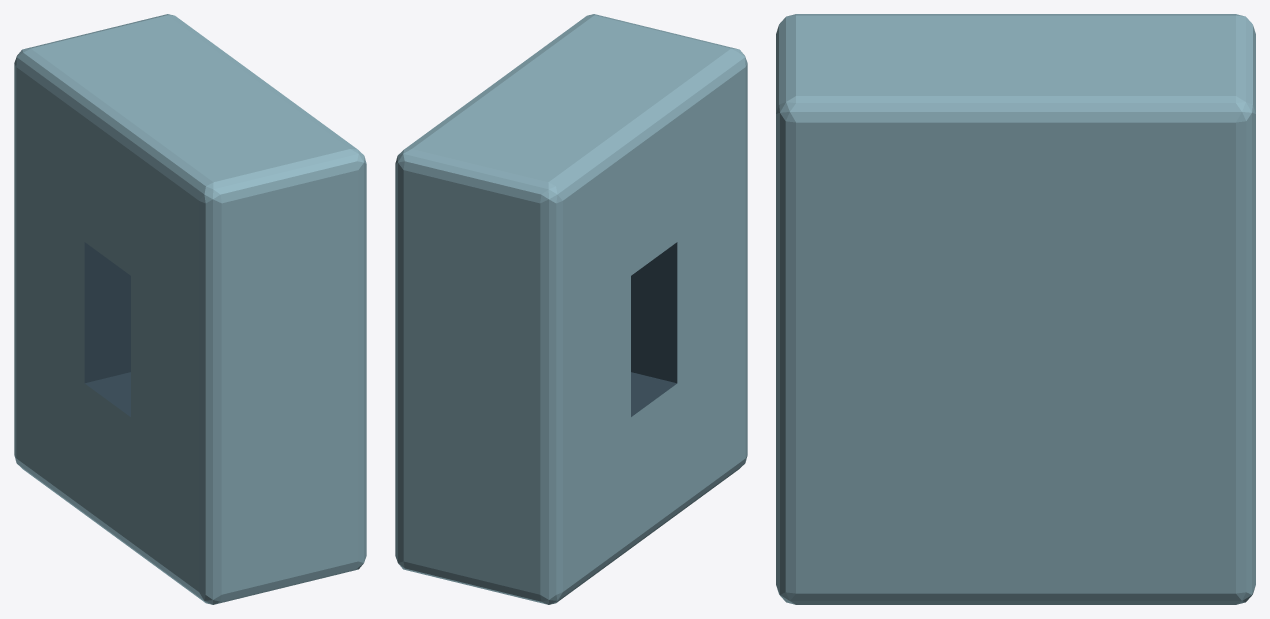
3 views of the same model, side by side, from view 1: azimuth 30°, elevation 25°; view 2: azimuth 150°, elevation 25°; view 3: azimuth 270°, elevation 25° (orthographic). The views are drawn at different scales.
Parts seen in each view (by area): view 1: geometry_0; view 2: geometry_0; view 3: geometry_0.
Boxes of the visible parts, left/top/right/bottom form: geometry_0: left=14, top=14, right=366, bottom=604; geometry_0: left=395, top=14, right=747, bottom=604; geometry_0: left=776, top=14, right=1255, bottom=604.
Size of the model in its own units: 0.0115 by 0.028 by 0.024.
1 material, 1 textured.
